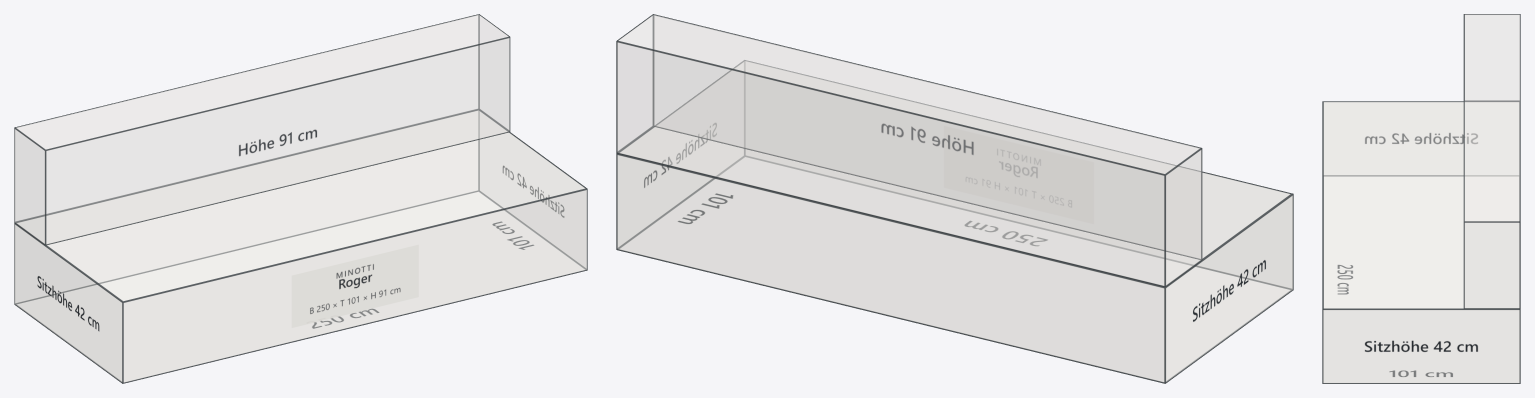
Rendered from sofas-roger-sofas.glb.
3 views of the same model, side by side, from view 1: azimuth 30°, elevation 25°; view 2: azimuth 150°, elevation 25°; view 3: azimuth 270°, elevation 25° (orthographic). The views are drawn at different scales.
Parts seen in each view (by area): view 1: sitz_oben, ruecken_vorne, ruecken_hinten, Grundflaeche, sitz_vorne, sitz_hinten, ruecken_oben, sitz_links, sitz_rechts, ruecken_links, ruecken_rechts; view 2: Grundflaeche, sitz_oben, ruecken_hinten, ruecken_vorne, sitz_hinten, sitz_vorne, ruecken_oben, sitz_links, sitz_rechts, ruecken_links, ruecken_rechts; view 3: sitz_oben, Grundflaeche, sitz_rechts, sitz_links, ruecken_oben, ruecken_rechts, ruecken_links.
Boxes of the visible parts, x1=… form: sitz_oben: x1=16, y1=109, x2=587, y2=301; ruecken_vorne: x1=45, y1=37, x2=510, y2=245; ruecken_hinten: x1=15, y1=14, x2=479, y2=222; Grundflaeche: x1=15, y1=191, x2=586, y2=382; sitz_vorne: x1=122, y1=189, x2=587, y2=383; sitz_hinten: x1=15, y1=110, x2=479, y2=303; ruecken_oben: x1=14, y1=14, x2=509, y2=149; sitz_links: x1=14, y1=223, x2=122, y2=383; sitz_rechts: x1=479, y1=111, x2=586, y2=268; ruecken_links: x1=14, y1=128, x2=45, y2=244; ruecken_rechts: x1=479, y1=15, x2=509, y2=130; Grundflaeche: x1=618, y1=156, x2=1291, y2=382; sitz_oben: x1=618, y1=60, x2=1292, y2=285; ruecken_hinten: x1=616, y1=41, x2=1165, y2=287; ruecken_vorne: x1=653, y1=15, x2=1201, y2=259; sitz_hinten: x1=616, y1=153, x2=1165, y2=383; sitz_vorne: x1=745, y1=61, x2=1292, y2=289; ruecken_oben: x1=617, y1=14, x2=1201, y2=174; sitz_links: x1=1165, y1=194, x2=1293, y2=383; sitz_rechts: x1=617, y1=123, x2=744, y2=248; ruecken_links: x1=1165, y1=148, x2=1202, y2=287; ruecken_rechts: x1=617, y1=15, x2=653, y2=152; sitz_oben: x1=1322, y1=101, x2=1519, y2=308; Grundflaeche: x1=1323, y1=176, x2=1519, y2=382; sitz_rechts: x1=1322, y1=309, x2=1520, y2=383; sitz_links: x1=1323, y1=102, x2=1518, y2=175; ruecken_oben: x1=1463, y1=14, x2=1520, y2=221; ruecken_rechts: x1=1463, y1=221, x2=1520, y2=308; ruecken_links: x1=1464, y1=14, x2=1519, y2=101.
Size of the model in its own units: 2.5 by 0.91 by 1.01.
Materials: 11 (11 with a texture image).
